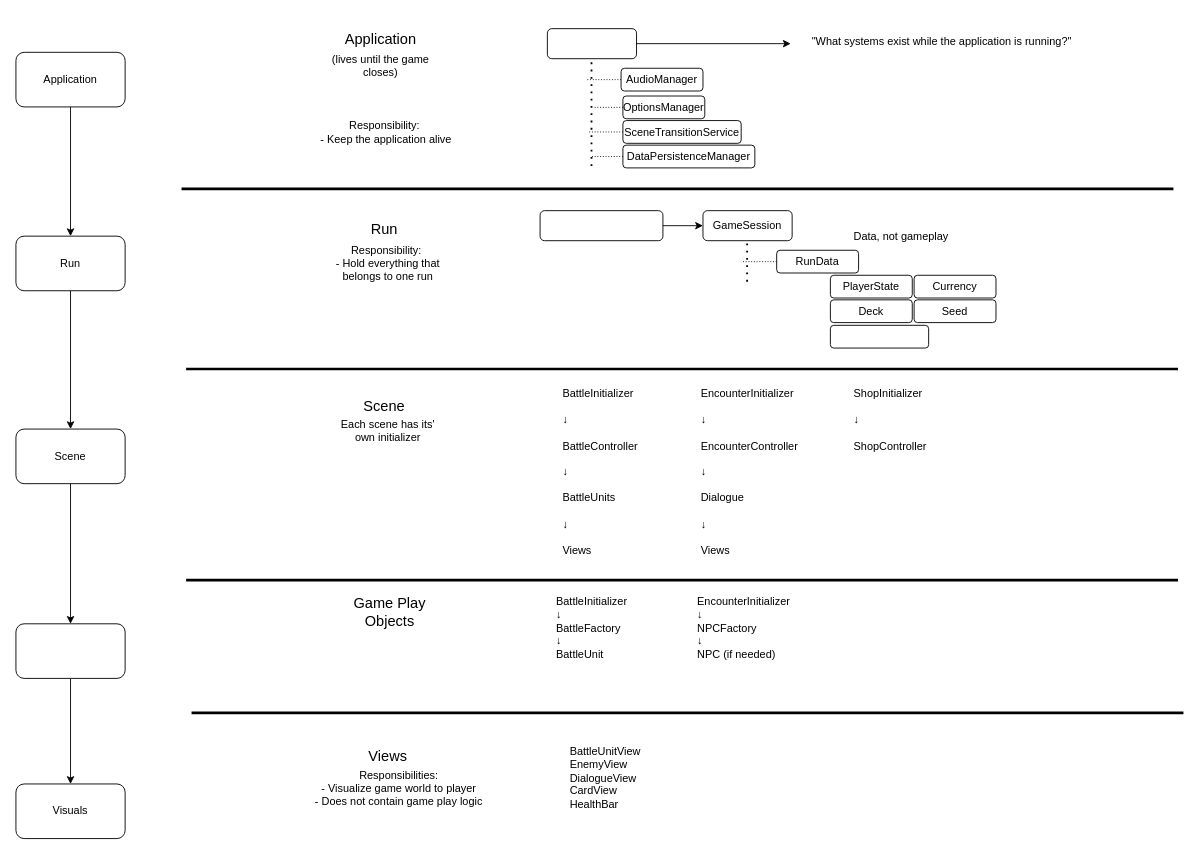
Some shapes in this 1201 by 854 pixel diagram are drawn without their labels. The shapes that lost their labels are listed below. From the top down, each one's centre as x and y in pixels, then its label:
the point at 591,43: GameManager
the point at 601,225: RunLifeCycleManager
the point at 879,336: Current Map Node
the point at 70,650: GamePlay
